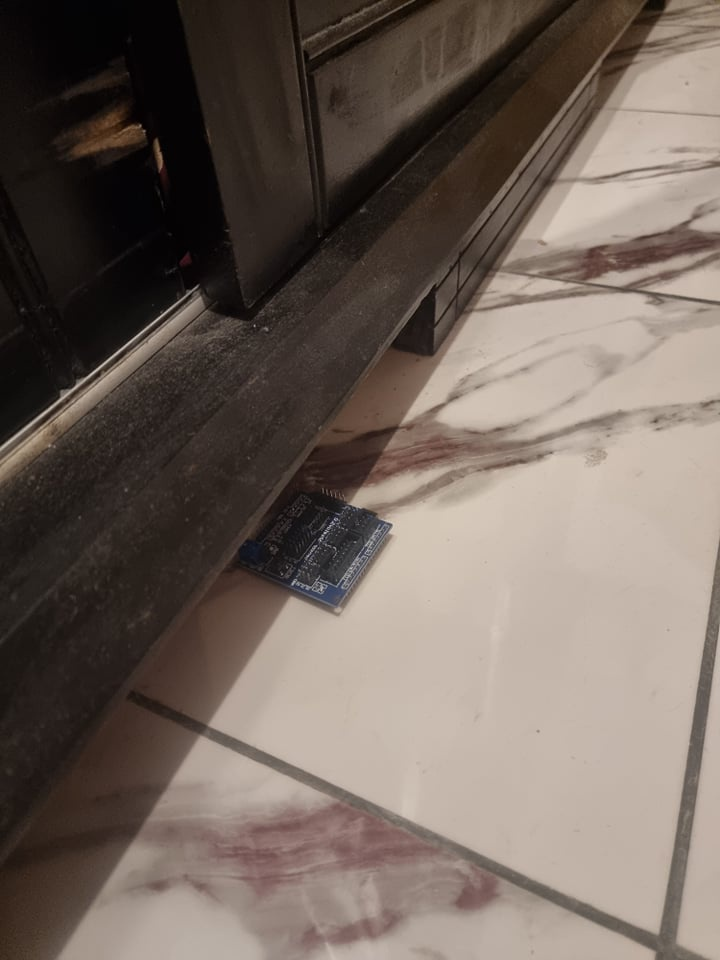5V EXPANSION: (232, 492, 396, 620)
